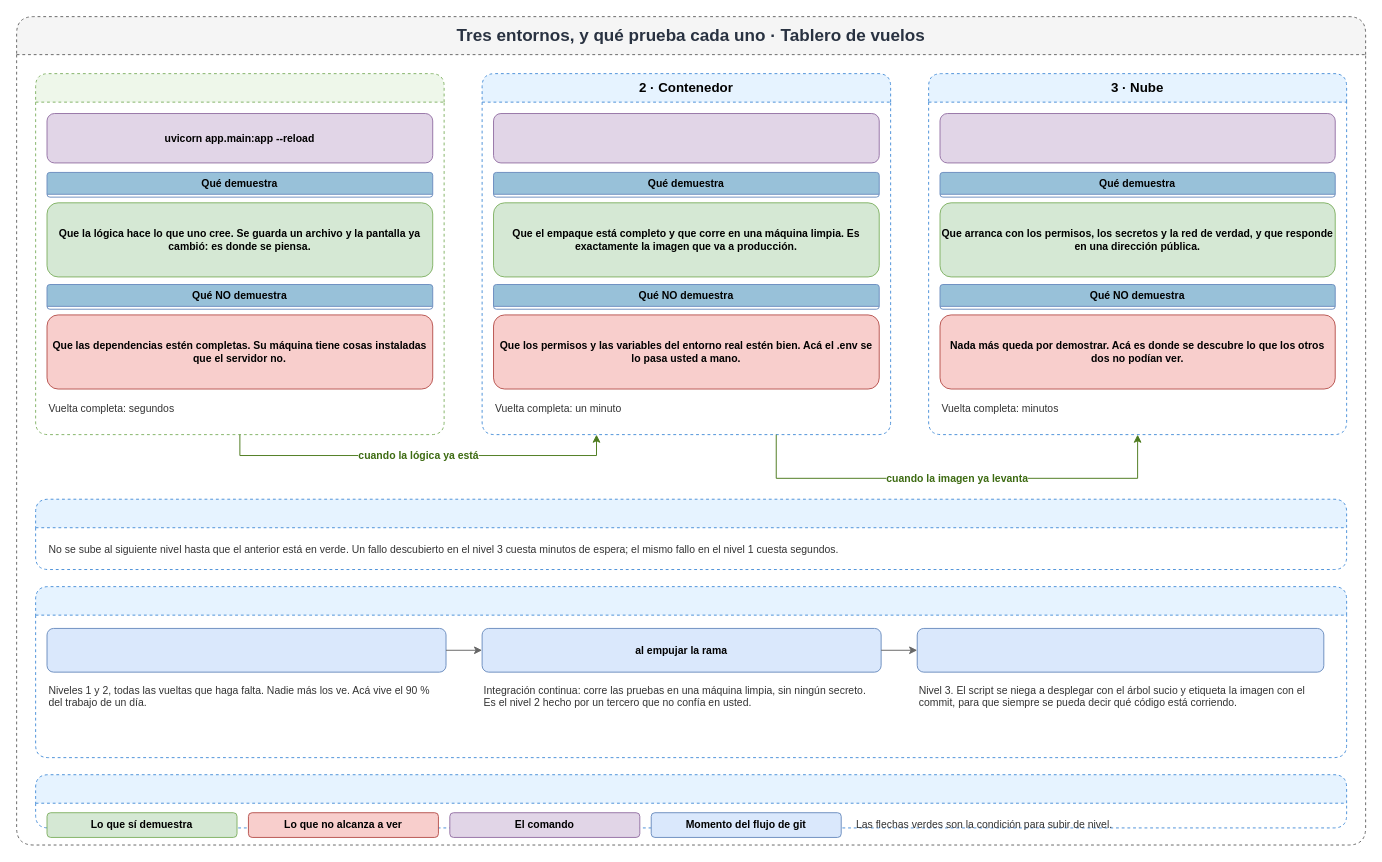
Some shapes in this 1382 by 862 pixel diagram are drawn without their labels. Here are the shapes that lost their labels. From the top down, the box of each, then its label:
(493, 113, 879, 163): PUERTO=8099 docker compose up --build
(939, 113, 1335, 163): scripts/desplegar.sh
(35, 73, 444, 435): 1 · Local
(35, 498, 1347, 570): La regla
(46, 627, 446, 672): rama de trabajo · feat/algo
(916, 627, 1324, 672): al integrar a main
(35, 586, 1347, 758): Cómo se cruza con las ramas
(35, 774, 1347, 828): Nomenclatura
